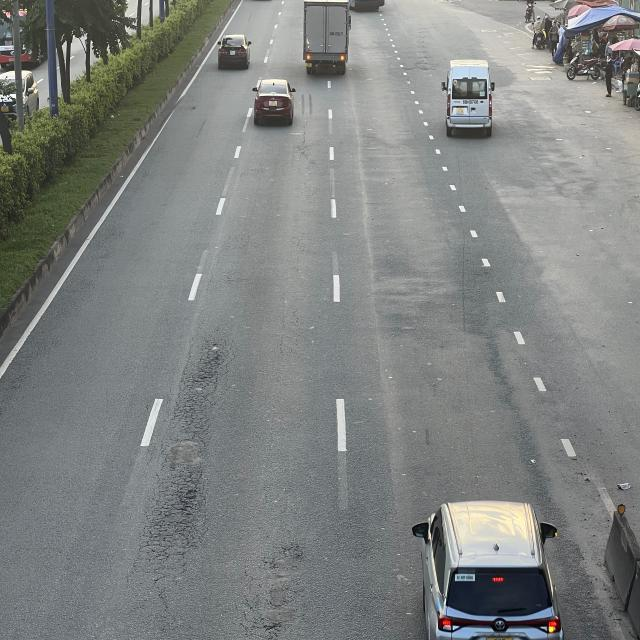car: (413, 500, 562, 640), (252, 77, 298, 123), (217, 34, 251, 70)
truck: (304, 0, 353, 72)
van: (442, 58, 496, 137)
